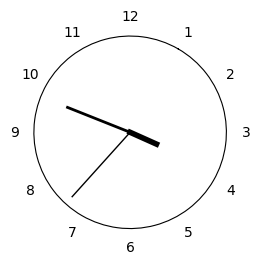12: (121, 9, 139, 23)
circle: (34, 36, 227, 229)
hours: (126, 129, 160, 148)
minutes: (65, 106, 128, 133)
seconds: (71, 135, 129, 197)
